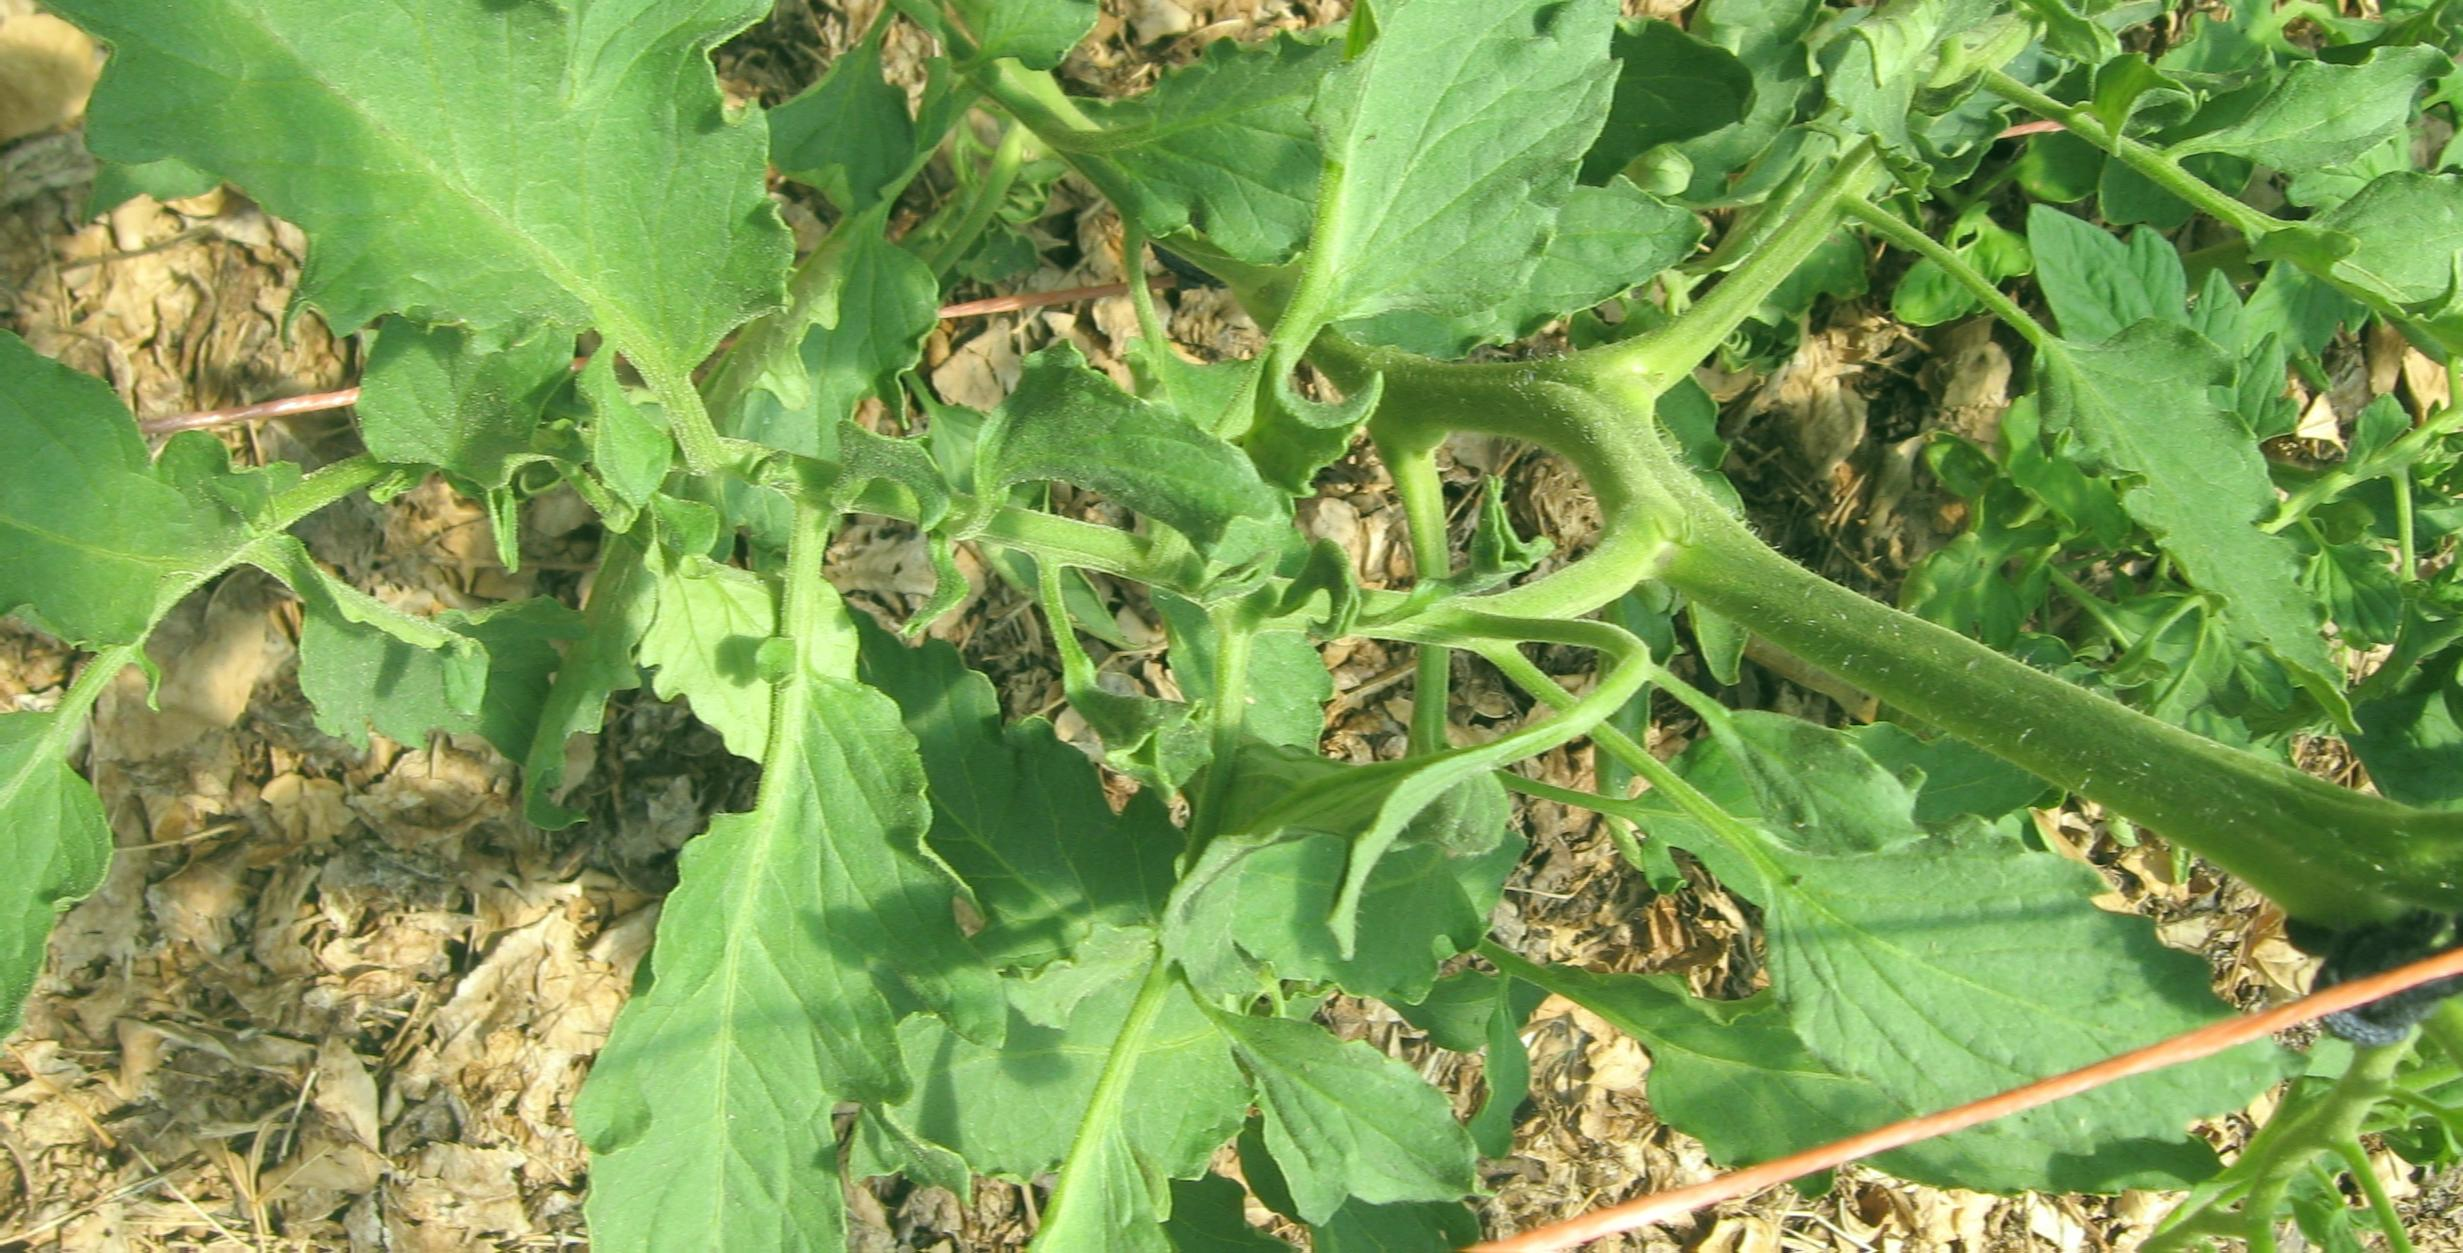Tomato leaf: (45, 0, 768, 471), (1559, 711, 2310, 1152), (559, 665, 1001, 1253), (979, 885, 1446, 1253), (1244, 0, 1572, 385), (2062, 337, 2390, 708), (262, 545, 602, 772), (0, 671, 139, 1092)
